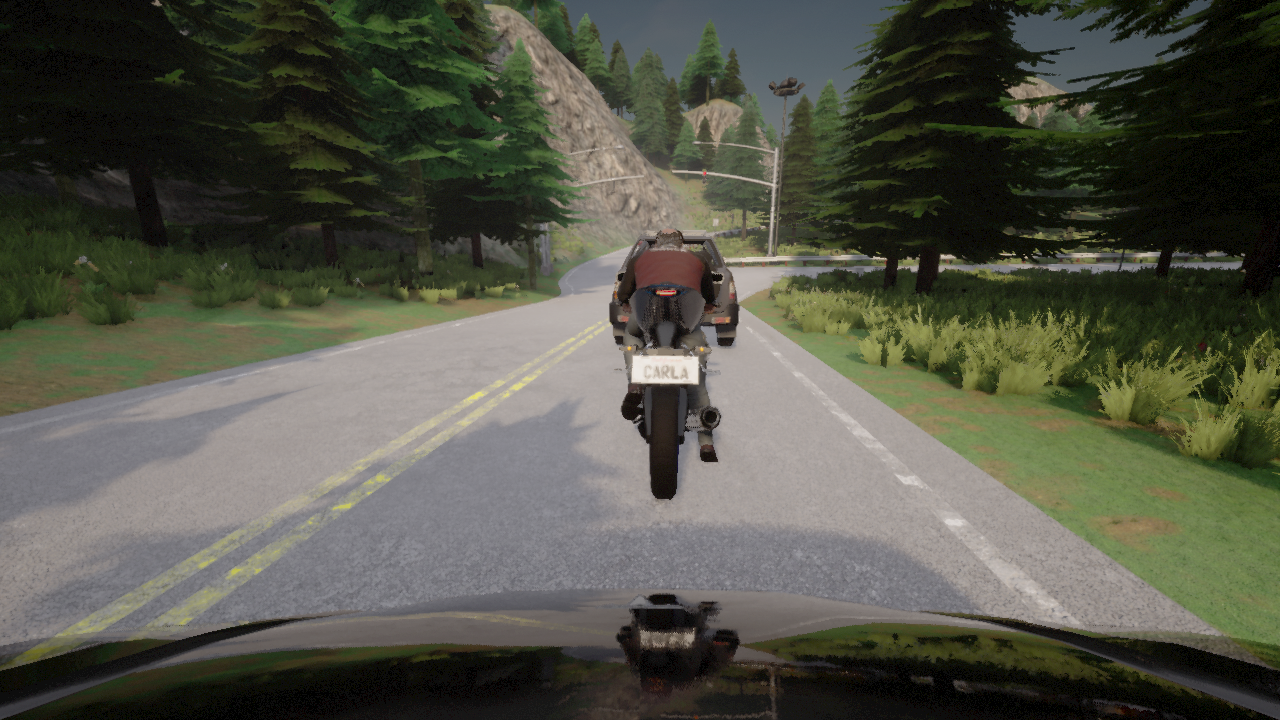cyclist: (0, 588, 1279, 719), (612, 271, 724, 498), (609, 230, 738, 346), (623, 251, 629, 264), (1277, 257, 1279, 265), (640, 233, 644, 235)
